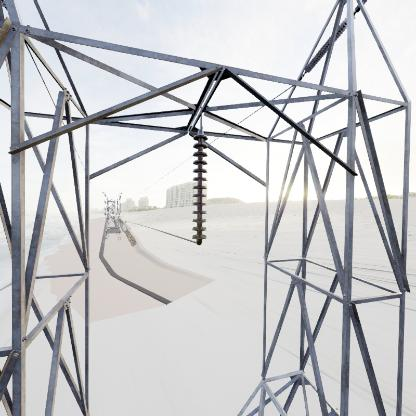insulator: (191, 133, 211, 247)
